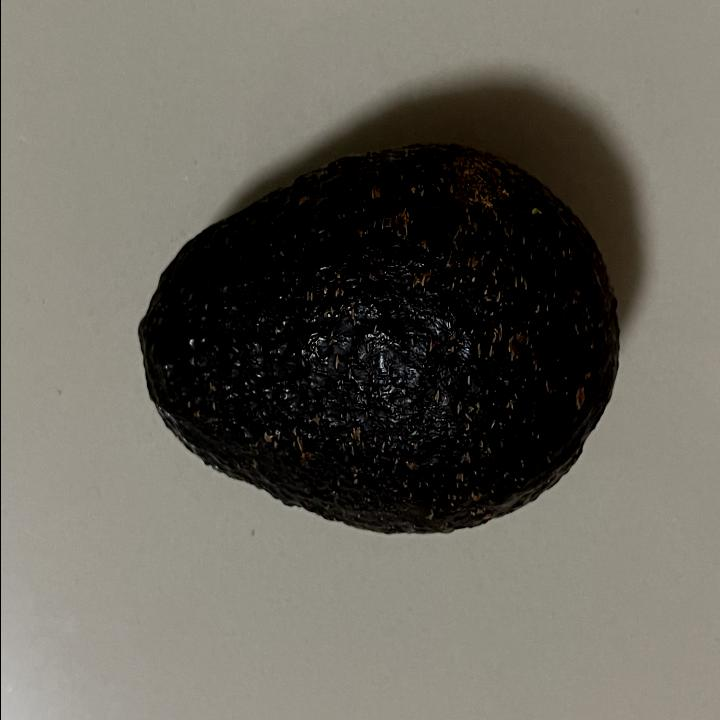Level3: (123, 134, 630, 548)
